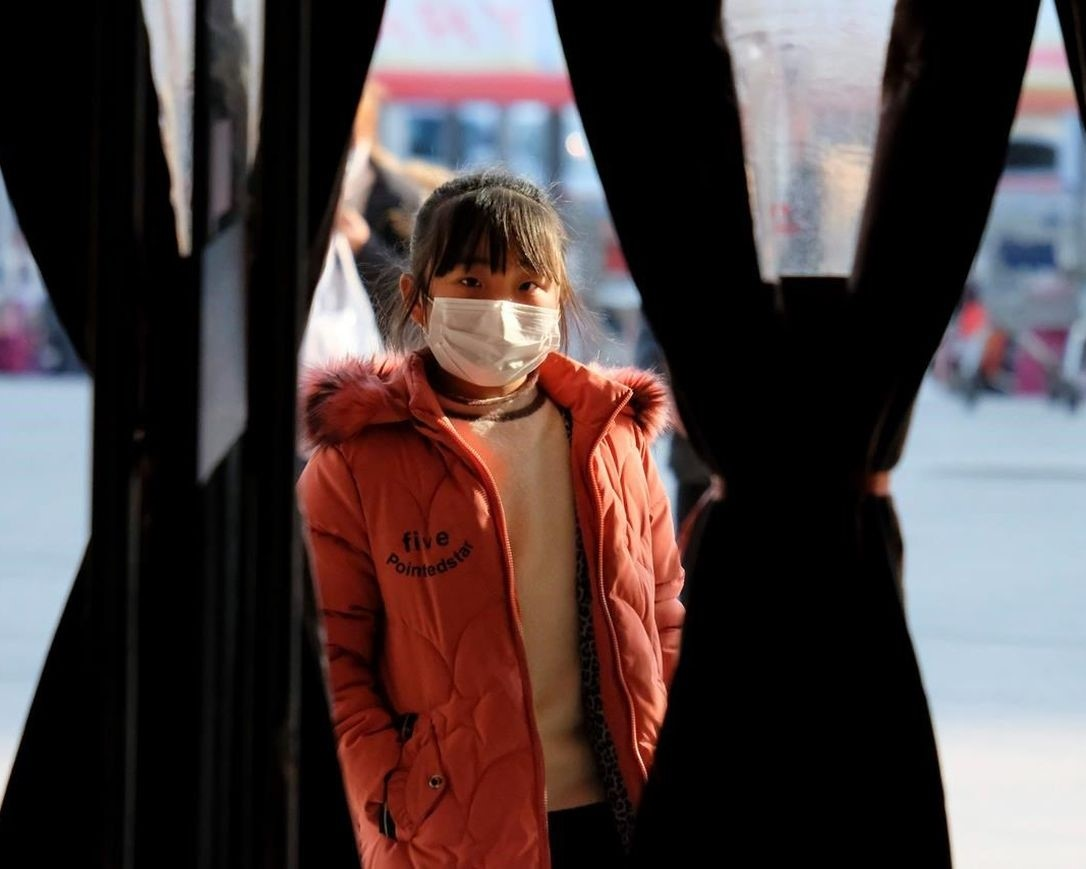face_with_mask: (398, 170, 573, 388)
